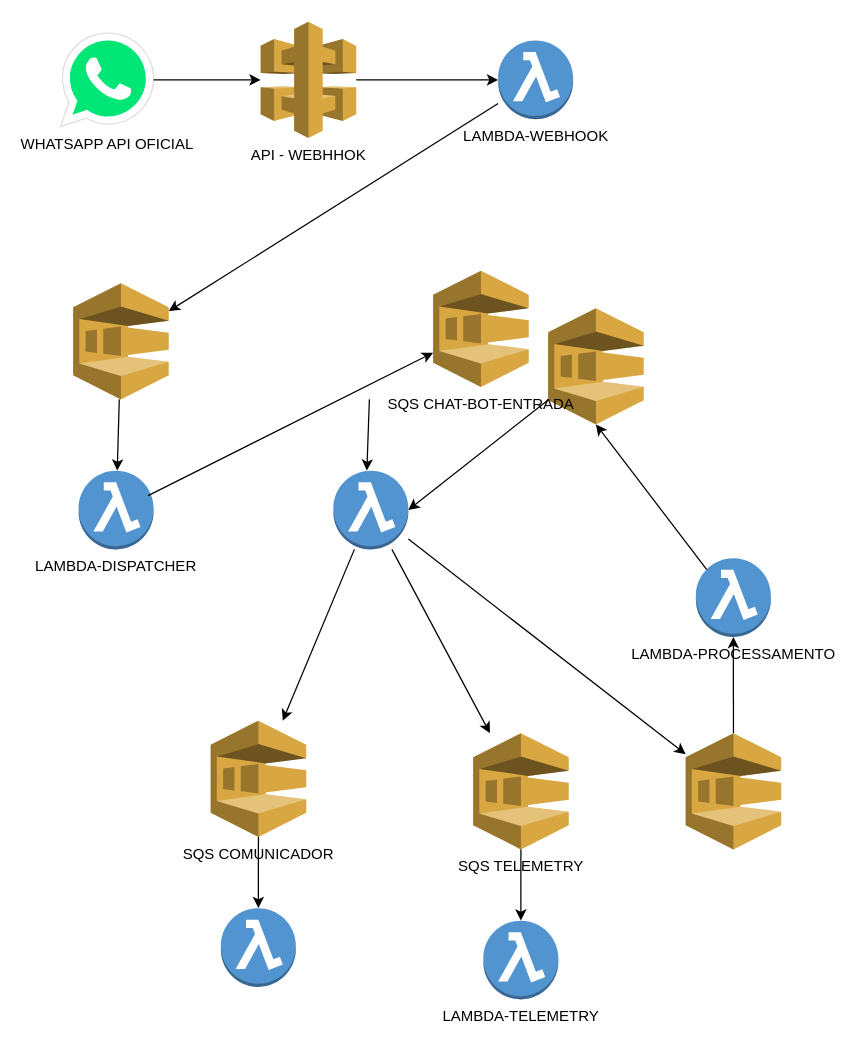
Some shapes in this 858 by 1048 pixel diagram are drawn without their labels. Here are the shapes that lost their labels. From the top down, the centre of each, then its label:
[120,340]: SQS DISPATCGER
[595,365]: SQS-RESULTADO-PROCESSAMENTO
[370,509]: LAM BDA-CHATBOT
[732,790]: SQS PROCESSAMENTO
[258,947]: LAM BDA-COMUNICADOR
